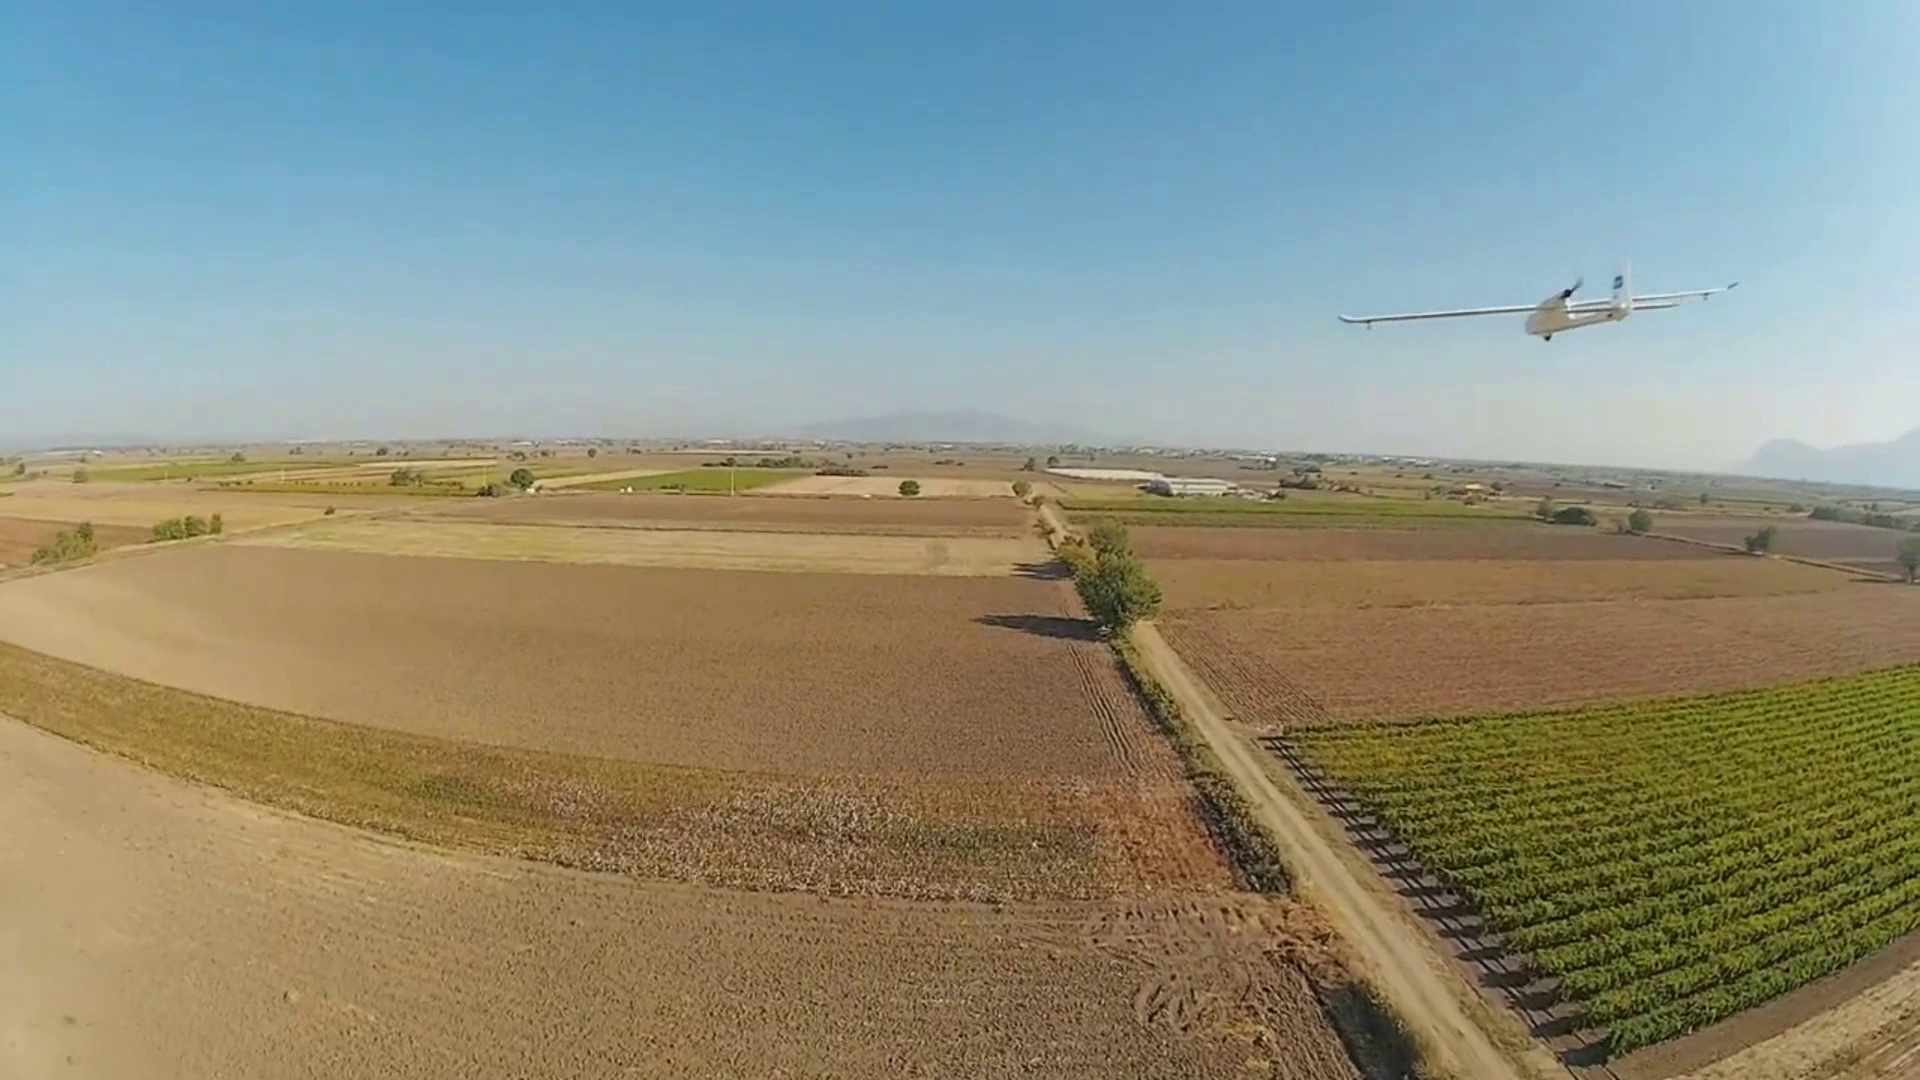airplane: (1333, 259, 1736, 340)
